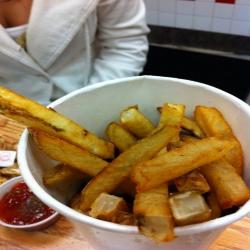fries: (25, 93, 250, 242)
ketchup: (1, 171, 65, 237)
